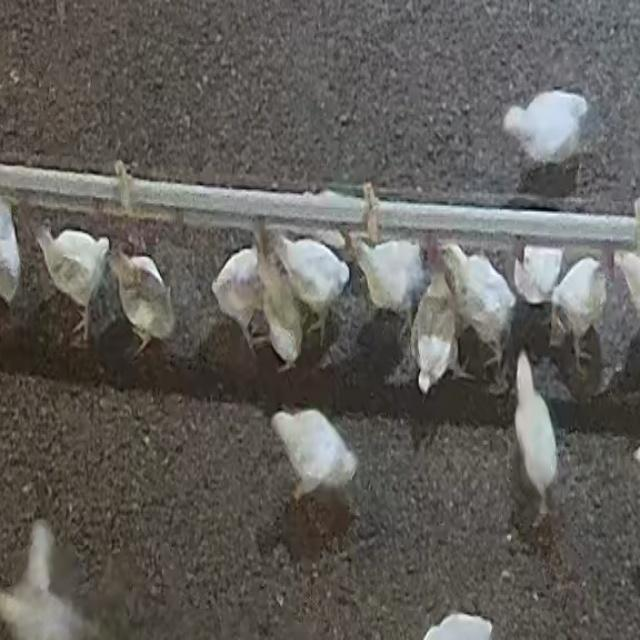chicken: (272, 232, 350, 350), (270, 405, 358, 506), (511, 349, 559, 522), (449, 244, 518, 354), (108, 245, 176, 353), (350, 233, 428, 323), (35, 224, 109, 312), (506, 84, 586, 160), (211, 247, 266, 354), (550, 256, 607, 354), (414, 270, 454, 394), (262, 273, 306, 368), (514, 245, 564, 307), (614, 251, 640, 316)
